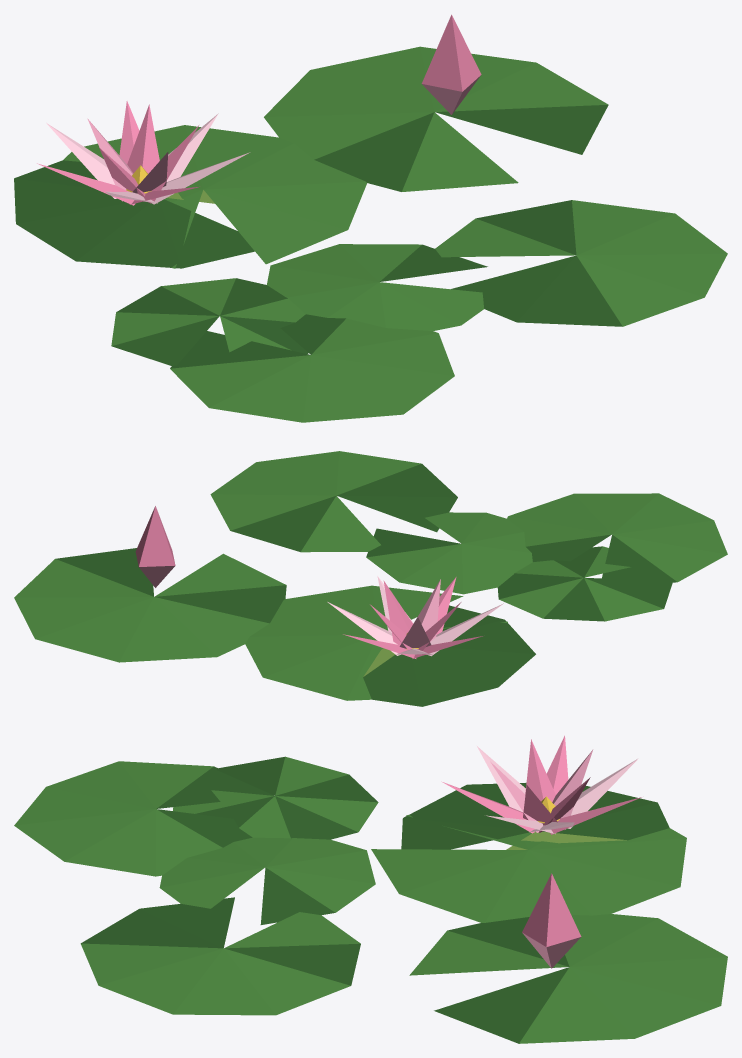
Rendered from lily_pads.fbx.
3 views of the same model, one above another, from view 1: azimuth 30°, elevation 25°; view 2: azimuth 150°, elevation 25°; view 3: azimuth 270°, elevation 25° (orthographic). The views are drawn at different scales.
Parts seen in each view (by area): view 1: lily_pads; view 2: lily_pads; view 3: lily_pads.
Boxes of the visible parts, <box> form: lily_pads: <box>14,14,727,422</box>; lily_pads: <box>14,451,727,706</box>; lily_pads: <box>14,735,727,1043</box>.
Bounding box in the file's own units: 1.8 × 0.31 × 1.89.
